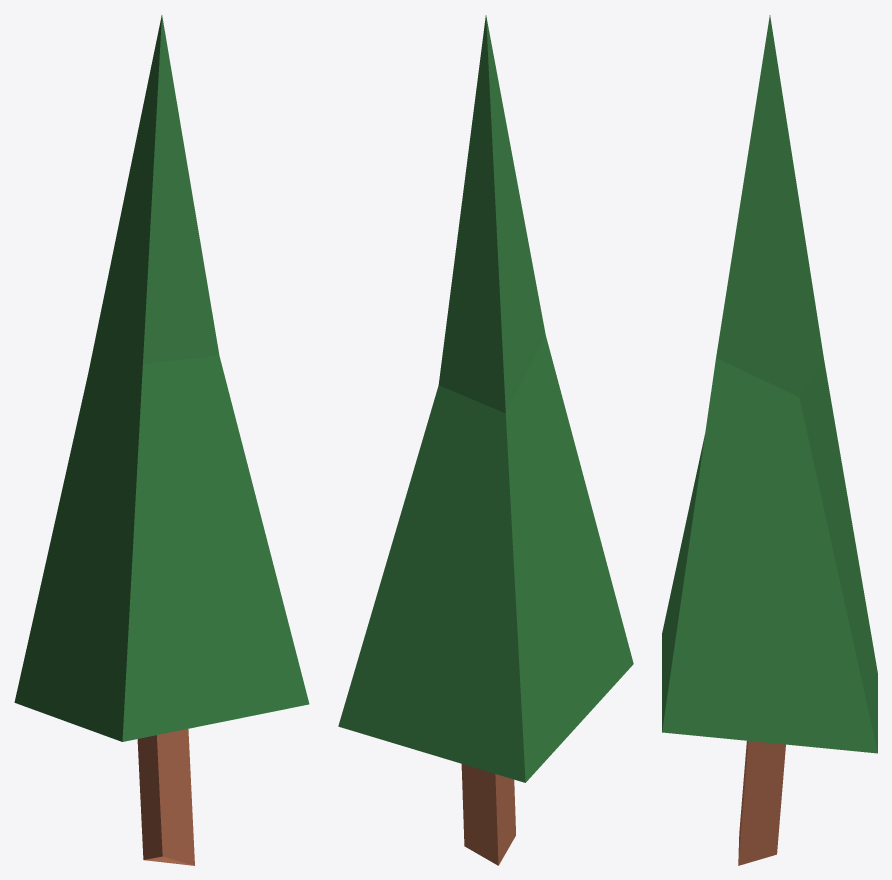
The model's file is Pine 5.fbx.
3 views of the same model, side by side, from view 1: azimuth 30°, elevation 25°; view 2: azimuth 150°, elevation 25°; view 3: azimuth 270°, elevation 25° (orthographic).
Parts seen in each view (by area): view 1: Pine 5; view 2: Pine 5; view 3: Pine 5.
Part boxes in pixels (x1=…): Pine 5: x1=14, y1=15, x2=309, y2=865; Pine 5: x1=338, y1=15, x2=633, y2=865; Pine 5: x1=662, y1=15, x2=877, y2=865.
Size of the model in its own units: 80 by 345 by 80.
